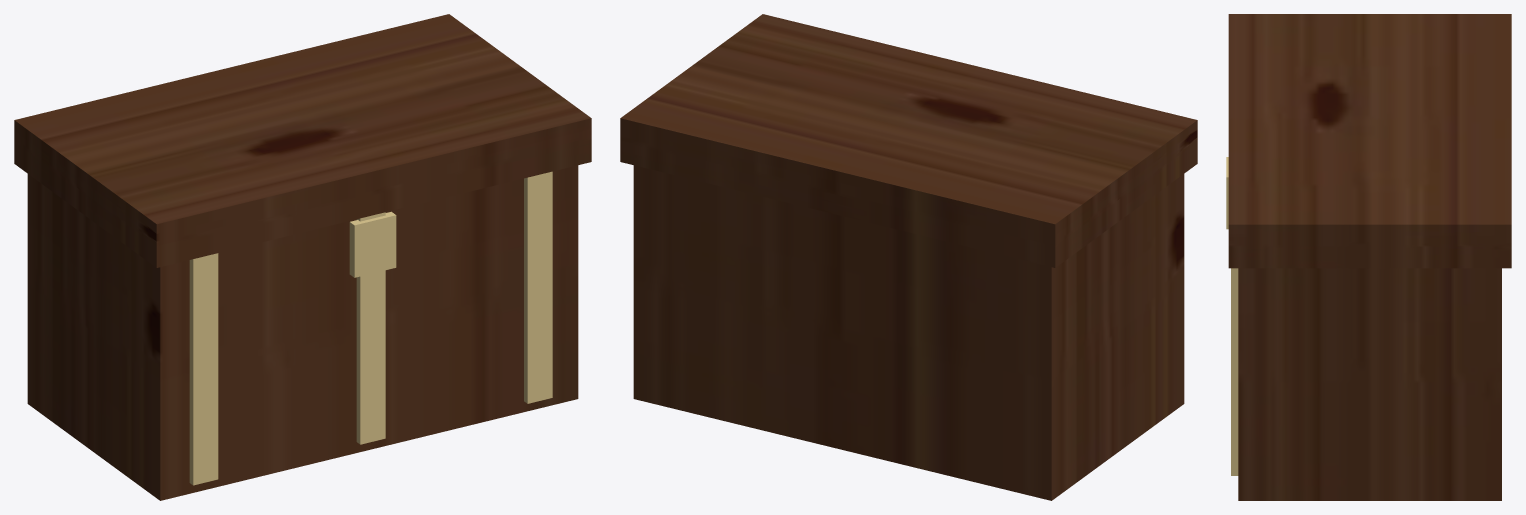
Rendered from wooden_chest_sunduk.glb.
The picture shows the model from 3 angles, left to right: view 1: azimuth 30°, elevation 25°; view 2: azimuth 150°, elevation 25°; view 3: azimuth 270°, elevation 25°; orthographic projection.
Visible parts, largest first — view 1: Wooden_Chest_Sunduk; view 2: Wooden_Chest_Sunduk; view 3: Wooden_Chest_Sunduk.
Part boxes in pixels (x1=…): Wooden_Chest_Sunduk: x1=14, y1=14, x2=591, y2=500; Wooden_Chest_Sunduk: x1=620, y1=14, x2=1197, y2=500; Wooden_Chest_Sunduk: x1=1226, y1=14, x2=1511, y2=500.
Bounding box in the file's own units: 1.04 × 0.645 × 0.595.
Materials: 2 (1 with a texture image).
